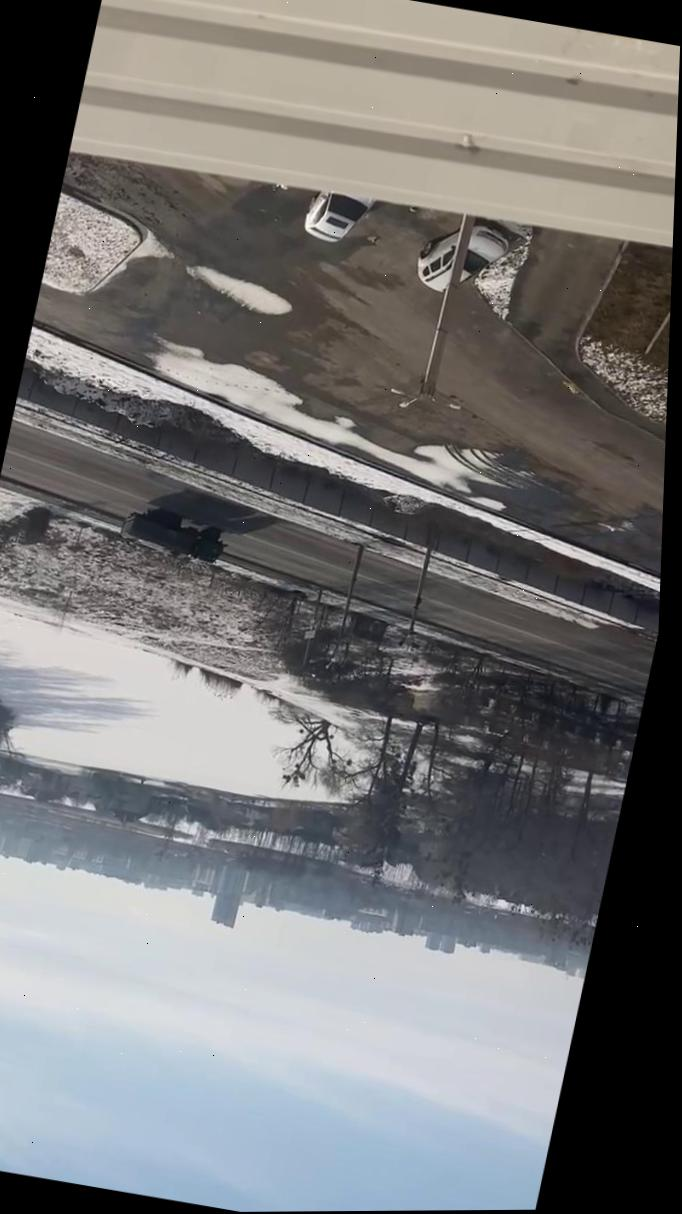car: (411, 214, 512, 302)
truck: (116, 501, 234, 567)
